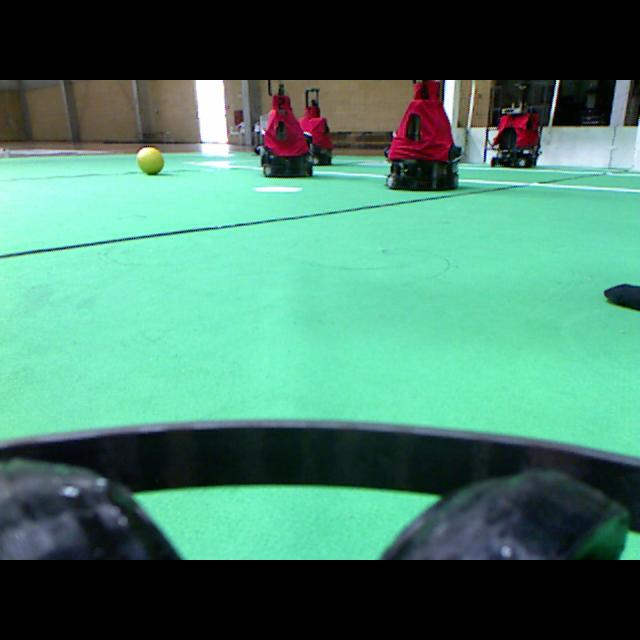ball: (137, 147, 163, 174)
